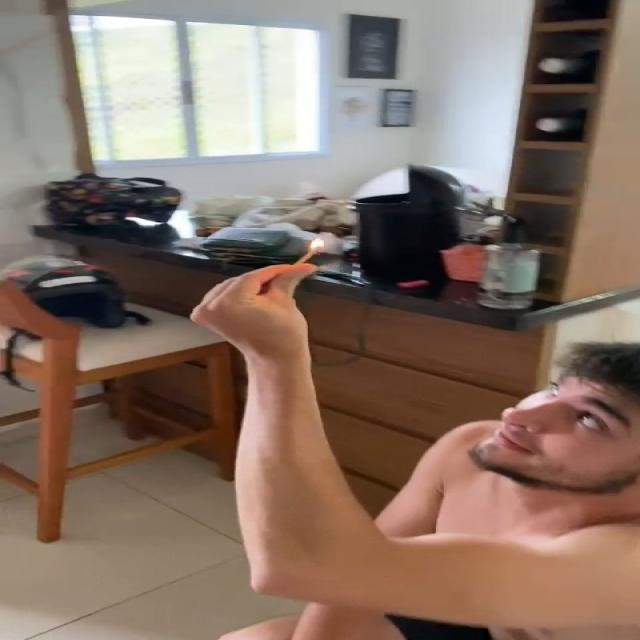fogo-ypXI: (308, 238, 325, 252)
